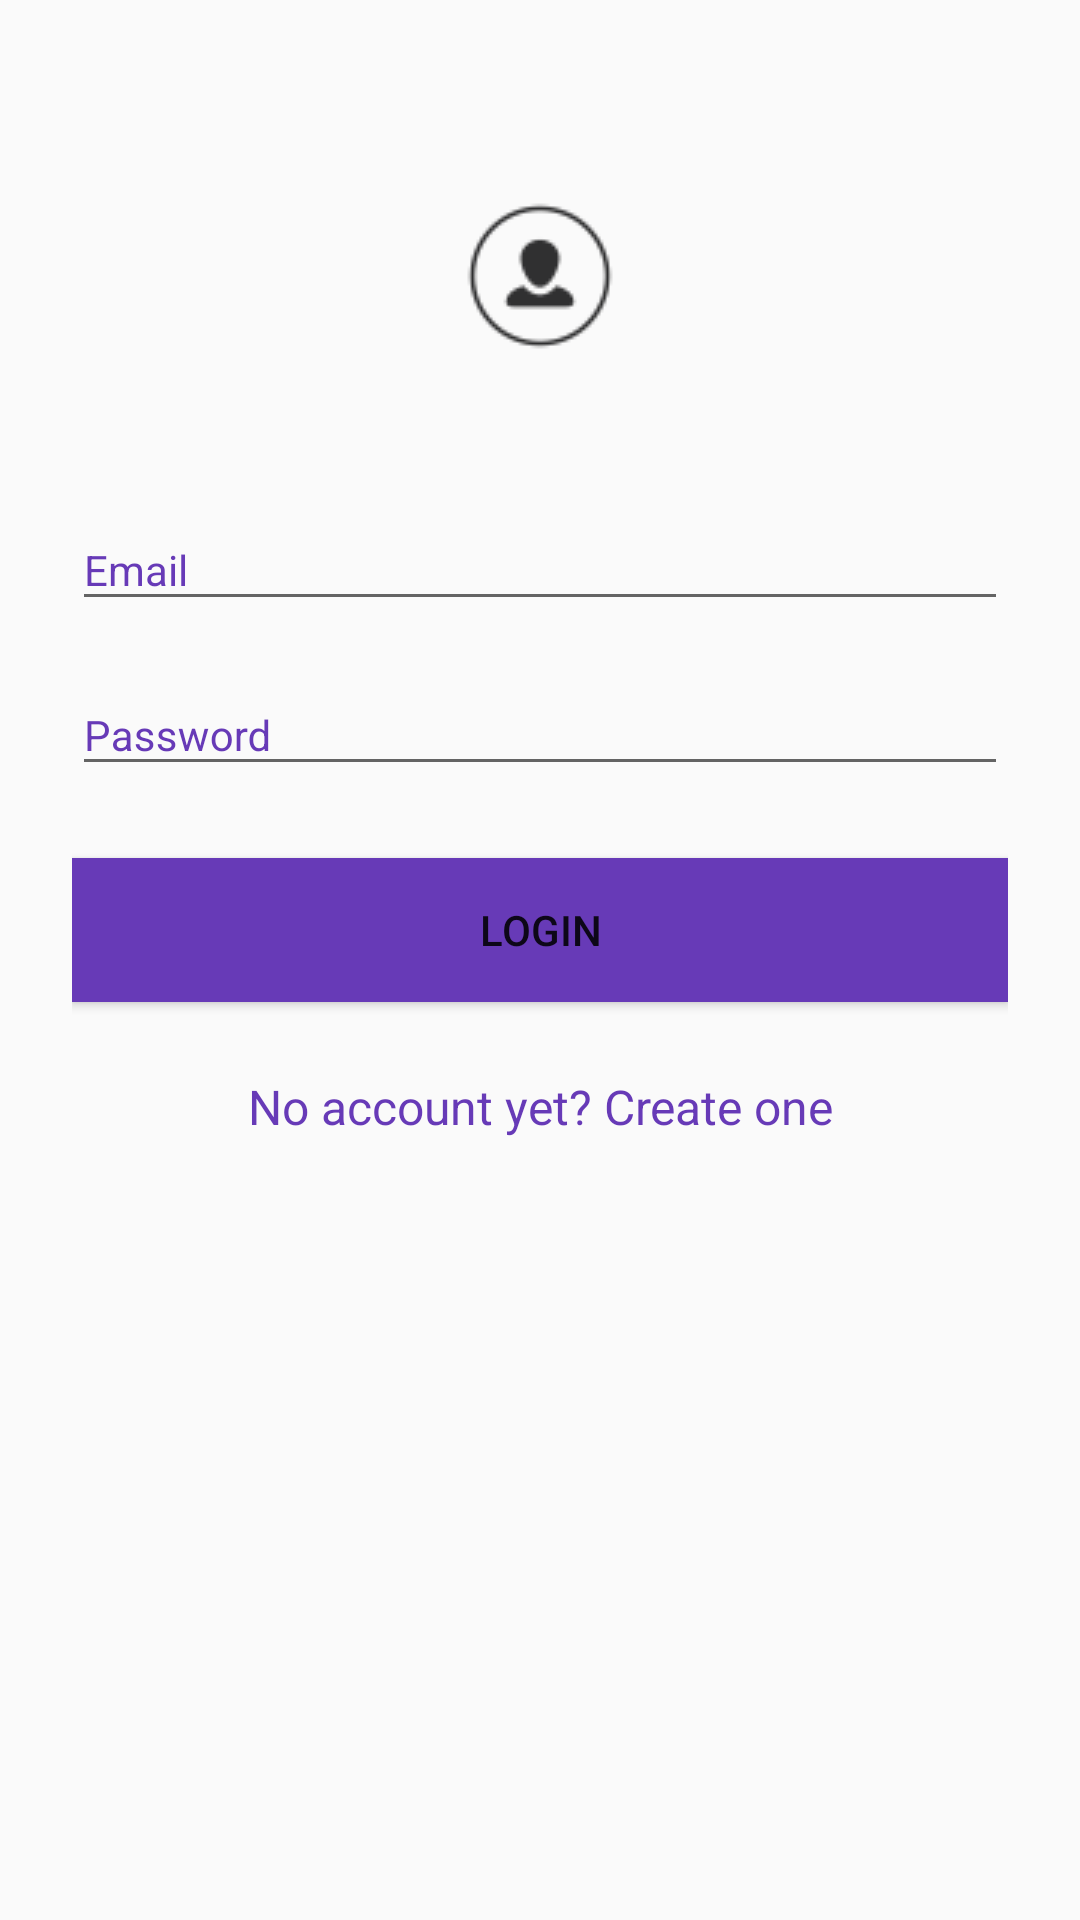

Screen size 1080px×1920px. Icon name, then its box in pixels as {"x1": x1, "y1": y1, "x2": x2, "y2": y2}:
user: {"x1": 468, "y1": 204, "x2": 612, "y2": 348}
